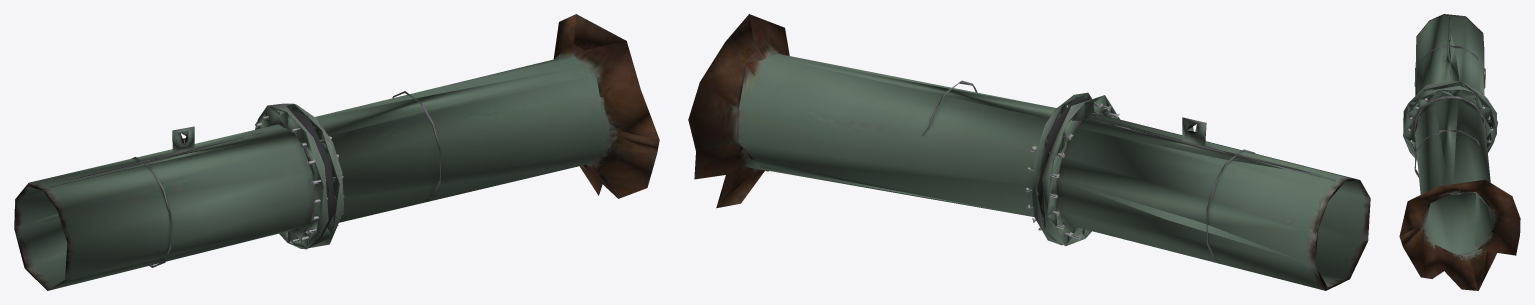
File: industrial_pipe_large_fractured_lod2.glb
The picture shows the model from 3 angles, left to right: view 1: azimuth 30°, elevation 25°; view 2: azimuth 150°, elevation 25°; view 3: azimuth 270°, elevation 25°; orthographic projection. The views are drawn at different scales.
Parts seen in each view (by area): view 1: industrial_pipe_large_fractured_paint, industrial_pipe_large_fractured_weld, industrial_pipe_large_fractured_rubber, industrial_pipe_large_fractured_bolt; view 2: industrial_pipe_large_fractured_paint, industrial_pipe_large_fractured_weld, industrial_pipe_large_fractured_rubber, industrial_pipe_large_fractured_bolt; view 3: industrial_pipe_large_fractured_paint, industrial_pipe_large_fractured_weld, industrial_pipe_large_fractured_rubber, industrial_pipe_large_fractured_bolt.
Boxes of the visible parts, x1,y1,x2,y2 form: industrial_pipe_large_fractured_paint: (14,14,659,290); industrial_pipe_large_fractured_weld: (52,91,440,267); industrial_pipe_large_fractured_rubber: (278,109,336,239); industrial_pipe_large_fractured_bolt: (255,115,344,243); industrial_pipe_large_fractured_paint: (688,14,1370,290); industrial_pipe_large_fractured_weld: (927,80,1331,262); industrial_pipe_large_fractured_rubber: (1037,97,1093,226); industrial_pipe_large_fractured_bolt: (1024,103,1119,240); industrial_pipe_large_fractured_paint: (1399,14,1520,290); industrial_pipe_large_fractured_weld: (1414,20,1486,194); industrial_pipe_large_fractured_rubber: (1410,85,1493,148); industrial_pipe_large_fractured_bolt: (1407,98,1492,151).
Size of the model in its own units: 3.68 by 1.07 by 1.03.
4 materials, 1 textured.
